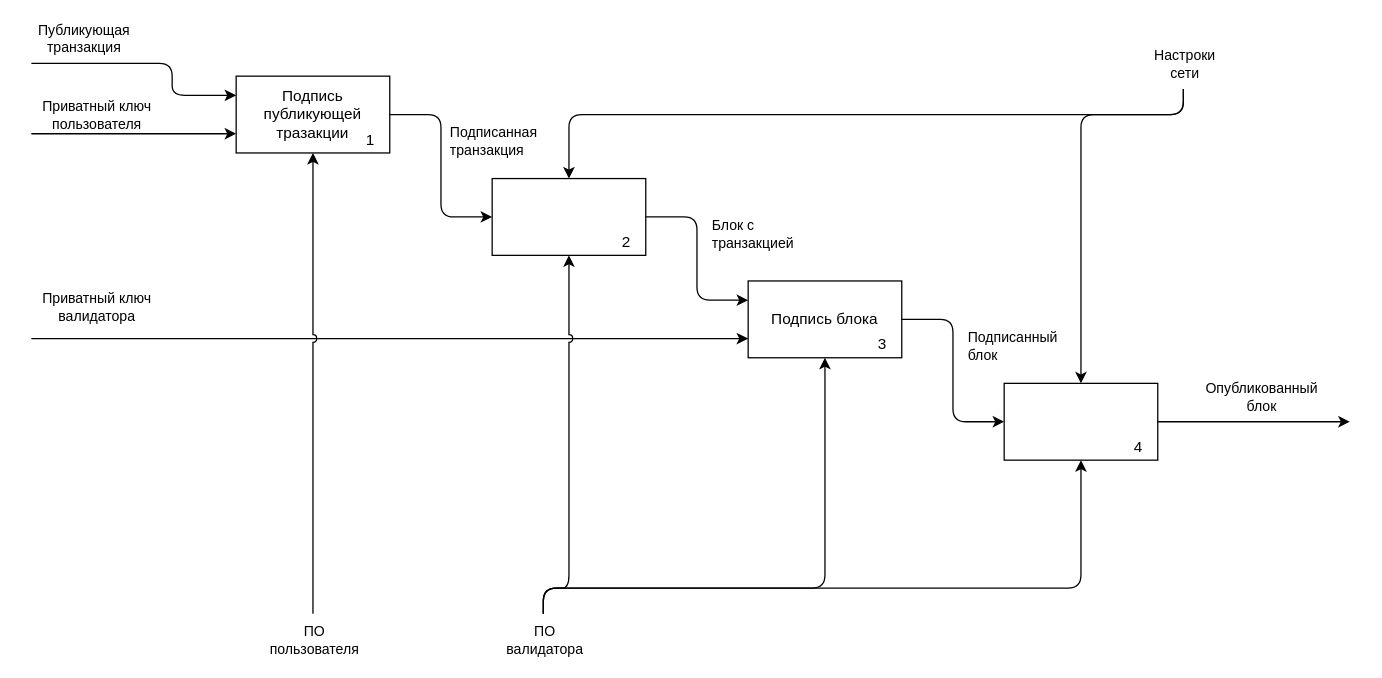
Image size: 1382x678. Some labels were removed from this diagram. The shapes that lost their labels are listed below. From the top down, each one's box as (x1, y1, x2, y2) in pixels, then its label:
(491, 177, 646, 255): Включение транзакции в блок
(1003, 382, 1158, 460): Отправка блока другим участникам сети
